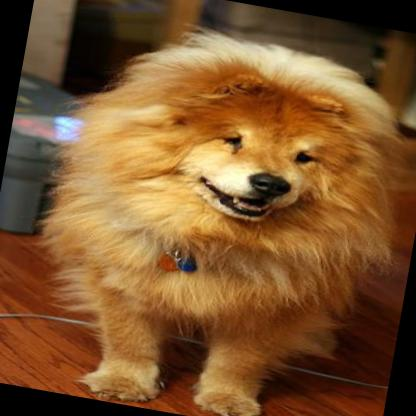chow: (19, 8, 416, 416)
